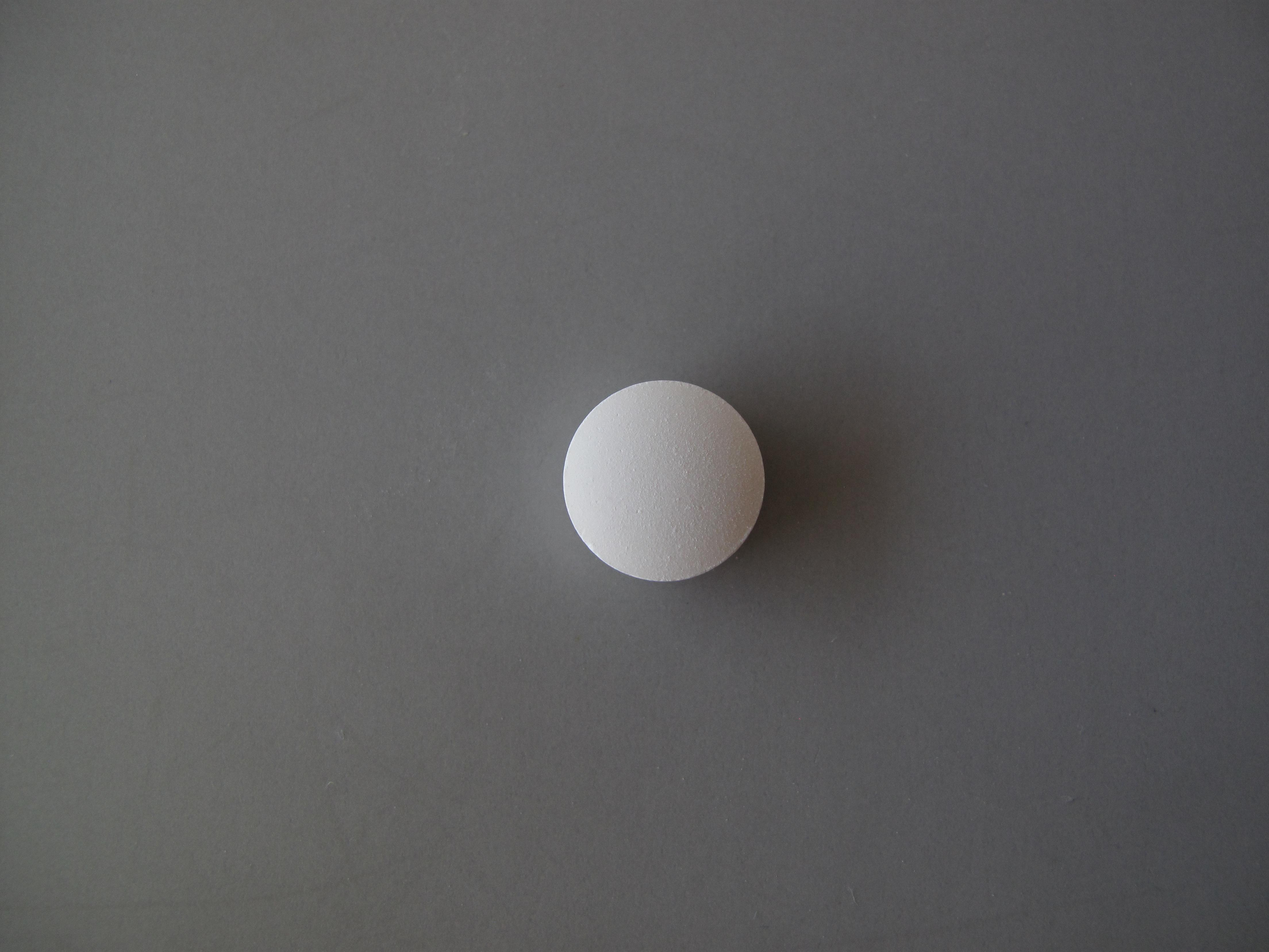Pill: (556, 372, 776, 589)
